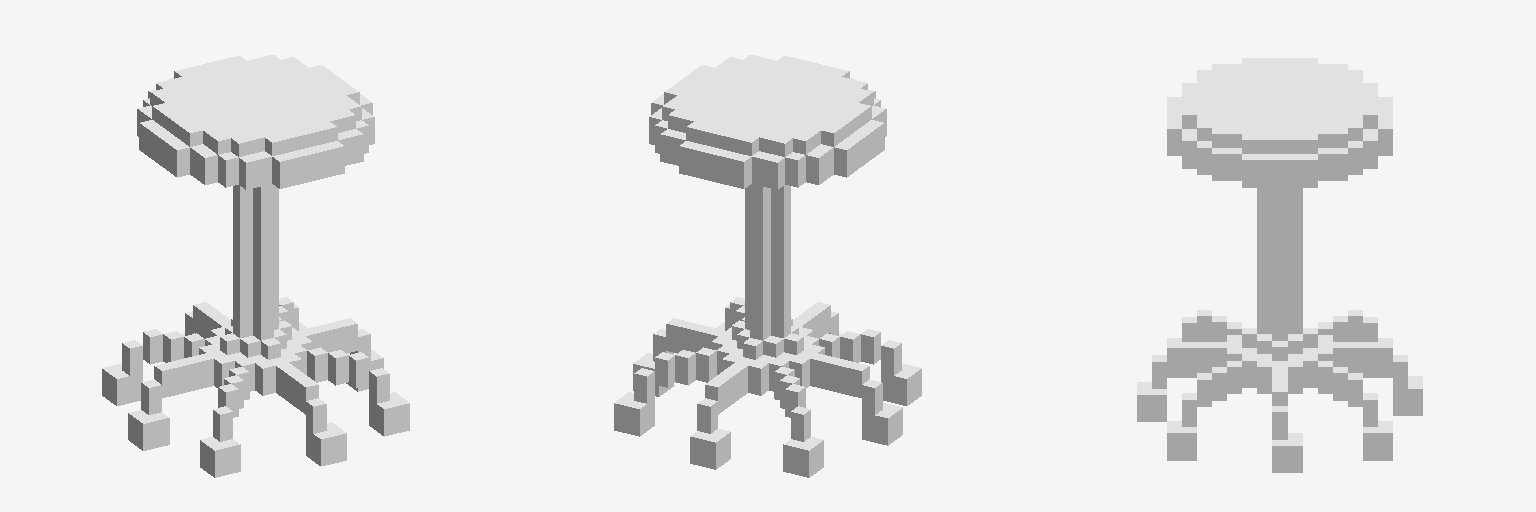
File: wheeltabouret.obj
3 renders of one model, left to right at view 1: azimuth 30°, elevation 25°; view 2: azimuth 150°, elevation 25°; view 3: azimuth 270°, elevation 25°, orthographic.
Visible parts, largest first — view 1: wheeltabouret; view 2: wheeltabouret; view 3: wheeltabouret.
Boxes of the visible parts, <box> form: wheeltabouret: <box>102,55,409,477</box>; wheeltabouret: <box>614,55,921,477</box>; wheeltabouret: <box>1137,58,1422,472</box>.
Size of the model in its own units: 19 by 23 by 19.